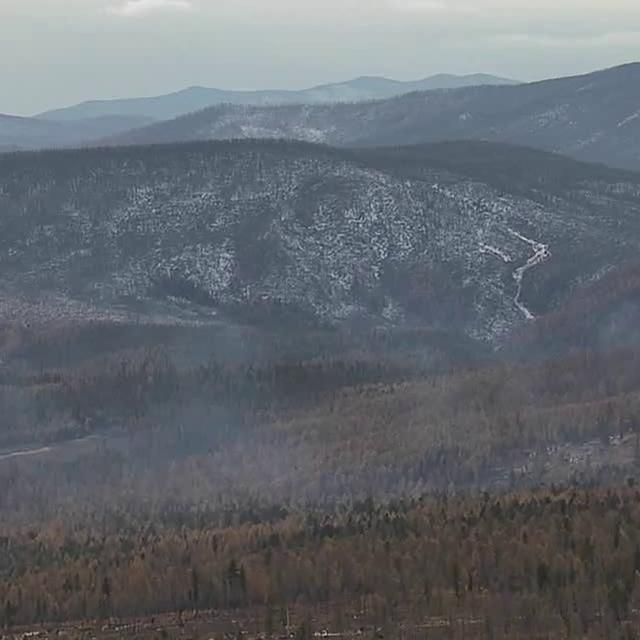Smoke: (0, 290, 639, 542)
